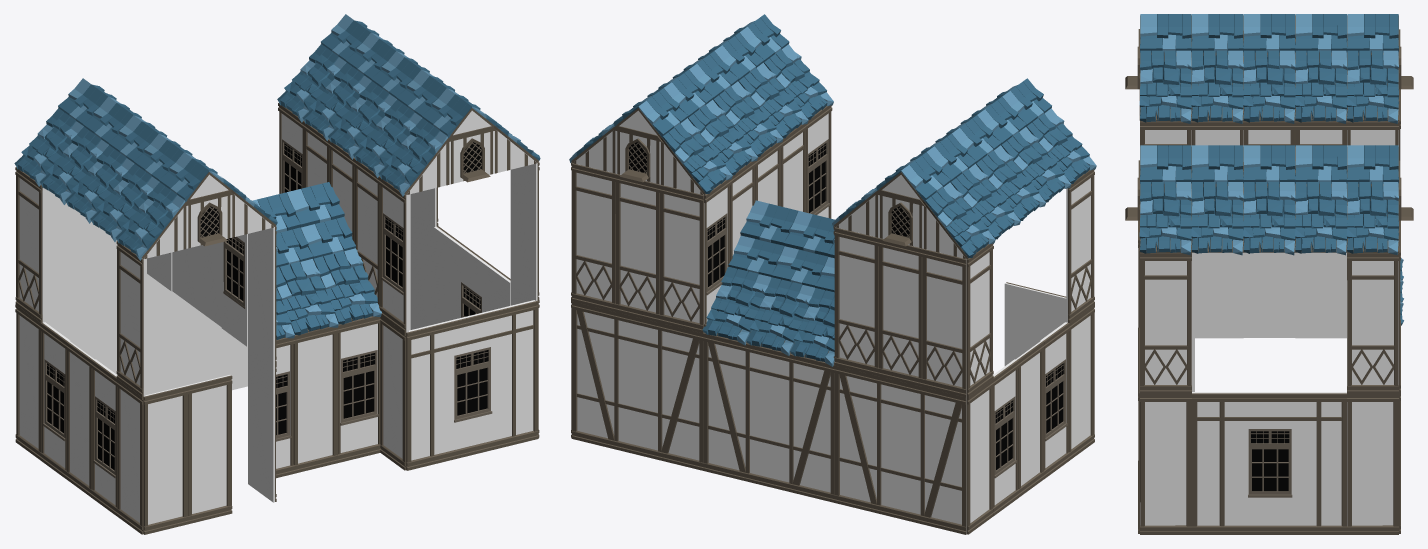
File: House_10_parts.fbx
3 views of the same model, side by side, from view 1: azimuth 30°, elevation 25°; view 2: azimuth 150°, elevation 25°; view 3: azimuth 270°, elevation 25° (orthographic). The views are drawn at different scales.
Visible parts, largest first — view 1: WINDOW_03_2, WALL_02_3, WALL_03_4, WALL_03_9, WALL_03_3, WINDOW_04_6, WINDOW_03_3, WALL_02_2, WALL_01_1, WINDOW_04_9, WALL_01_2, WALL_03_8 (+55 smaller); view 2: WALL_02_3, WALL_02_2, WALL_02_4, WALL_01_4, WALL_01_5, WALL_01_16, WALL_01_3, WALL_01_10, WALL_01_15, WALL_01_1, WALL_03_7, WALL_03_5 (+46 smaller); view 3: WINDOW_03_3, WALL_01_9, WALL_01_11, WALL_03_11, WALL_03_12, WALL_01_13, WALL_01_12, WALL_01_14, ROOF_base_5, ROOF_base_15, ROOF_base_4, ROOF_base_3 (+25 smaller).
Part boxes in pixels (bbox=[...]): WINDOW_03_2: bbox=[406, 300, 538, 470]; WALL_02_3: bbox=[149, 276, 247, 394]; WALL_03_4: bbox=[143, 385, 188, 534]; WALL_03_9: bbox=[293, 327, 338, 473]; WALL_03_3: bbox=[187, 375, 232, 524]; WINDOW_04_6: bbox=[337, 316, 380, 462]; WINDOW_03_3: bbox=[434, 226, 510, 324]; WALL_02_2: bbox=[16, 273, 149, 438]; WALL_01_1: bbox=[116, 241, 145, 396]; WINDOW_04_9: bbox=[379, 177, 408, 332]; WALL_01_2: bbox=[15, 167, 44, 322]; WALL_03_8: bbox=[248, 347, 276, 502]; WALL_02_3: bbox=[703, 332, 834, 502]; WALL_02_2: bbox=[834, 365, 966, 534]; WALL_02_4: bbox=[571, 301, 703, 470]; WALL_01_4: bbox=[922, 248, 966, 397]; WALL_01_5: bbox=[834, 227, 878, 375]; WALL_01_16: bbox=[659, 184, 703, 333]; WALL_01_3: bbox=[878, 238, 922, 386]; WALL_01_10: bbox=[571, 163, 615, 311]; WALL_01_15: bbox=[615, 174, 659, 322]; WALL_01_1: bbox=[1066, 169, 1094, 322]; WALL_03_7: bbox=[966, 379, 993, 534]; WALL_03_5: bbox=[1068, 305, 1094, 460]; WINDOW_03_3: bbox=[1192, 392, 1346, 534]; WALL_01_9: bbox=[1347, 252, 1398, 394]; WALL_01_11: bbox=[1140, 252, 1191, 394]; WALL_03_11: bbox=[1140, 394, 1191, 534]; WALL_03_12: bbox=[1347, 394, 1398, 534]; WALL_01_13: bbox=[1243, 252, 1295, 328]; WALL_01_12: bbox=[1192, 252, 1243, 328]; WALL_01_14: bbox=[1295, 252, 1346, 328]; ROOF_base_5: bbox=[1243, 50, 1295, 123]; ROOF_base_15: bbox=[1243, 181, 1295, 255]; ROOF_base_4: bbox=[1191, 49, 1243, 123]; ROOF_base_3: bbox=[1139, 50, 1191, 123].
Bounding box in the file's own units: 920 × 759 × 556.
